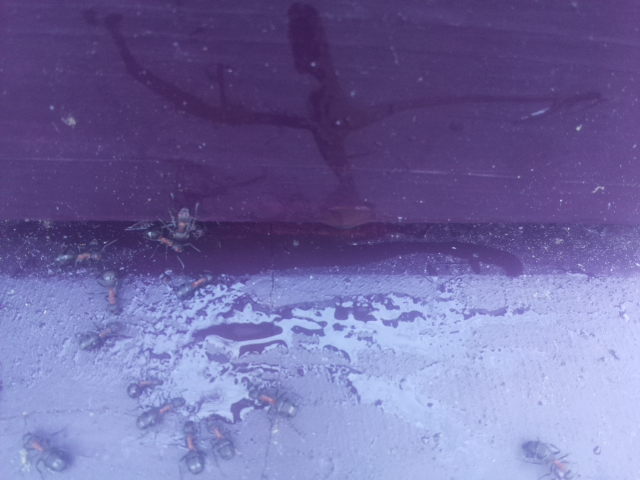ant: (14, 421, 76, 480), (155, 197, 211, 260), (516, 436, 579, 480), (130, 392, 192, 432), (71, 318, 129, 354), (165, 268, 220, 303), (182, 419, 206, 473), (20, 436, 62, 465), (98, 265, 122, 309), (45, 247, 106, 264)
